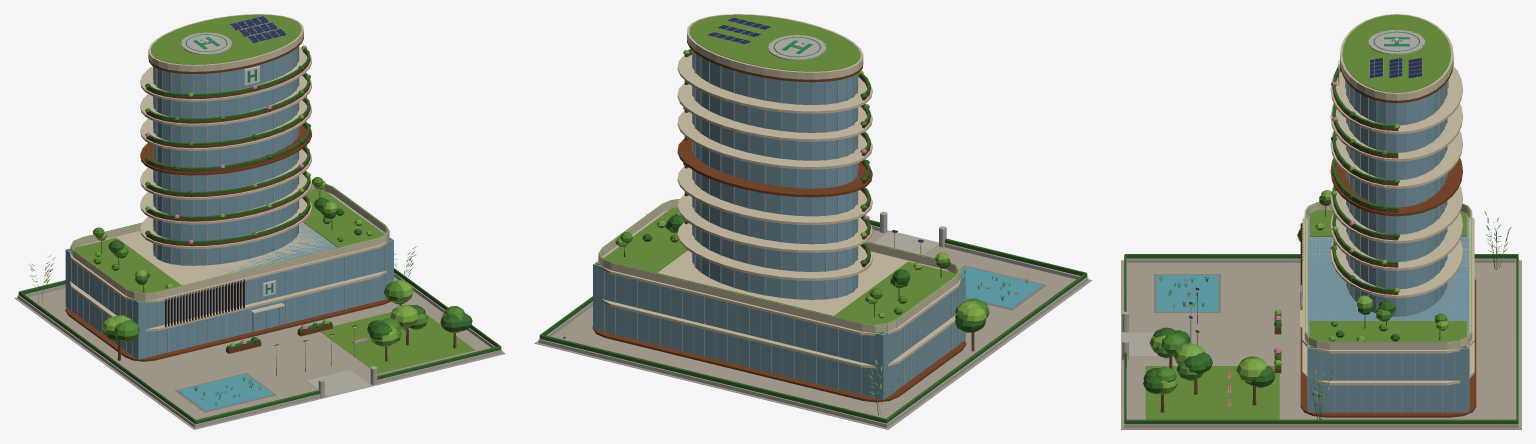
The model's file is hospital.glb.
The picture shows the model from 3 angles, left to right: view 1: azimuth 30°, elevation 25°; view 2: azimuth 150°, elevation 25°; view 3: azimuth 270°, elevation 25°; orthographic projection. The views are drawn at different scales.
Parts seen in each view (by area): view 1: body, windows; view 2: body, windows; view 3: body, windows.
Boxes of the visible parts, x1,y1,x2,y2 form: body: (14,14,505,429); windows: (71,32,388,384); body: (534,14,1092,429); windows: (599,35,959,324); body: (1121,14,1521,429); windows: (1122,29,1471,344).
Bounding box in the file's own units: 47.9 × 39.16 × 47.9.
